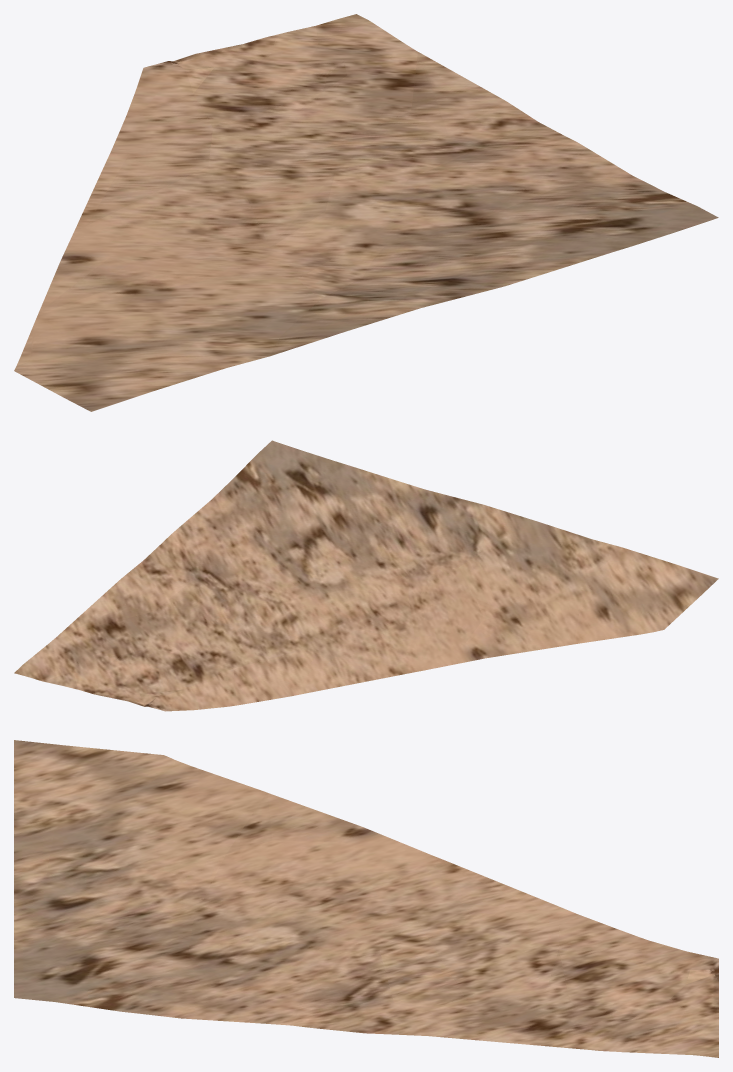
3 views of the same model, one above another, from view 1: azimuth 30°, elevation 25°; view 2: azimuth 150°, elevation 25°; view 3: azimuth 270°, elevation 25° (orthographic). The views are drawn at different scales.
Bounding box in the file's own units: 4.18 × 0.4475 × 4.18.
Materials: 2 (2 with a texture image).
